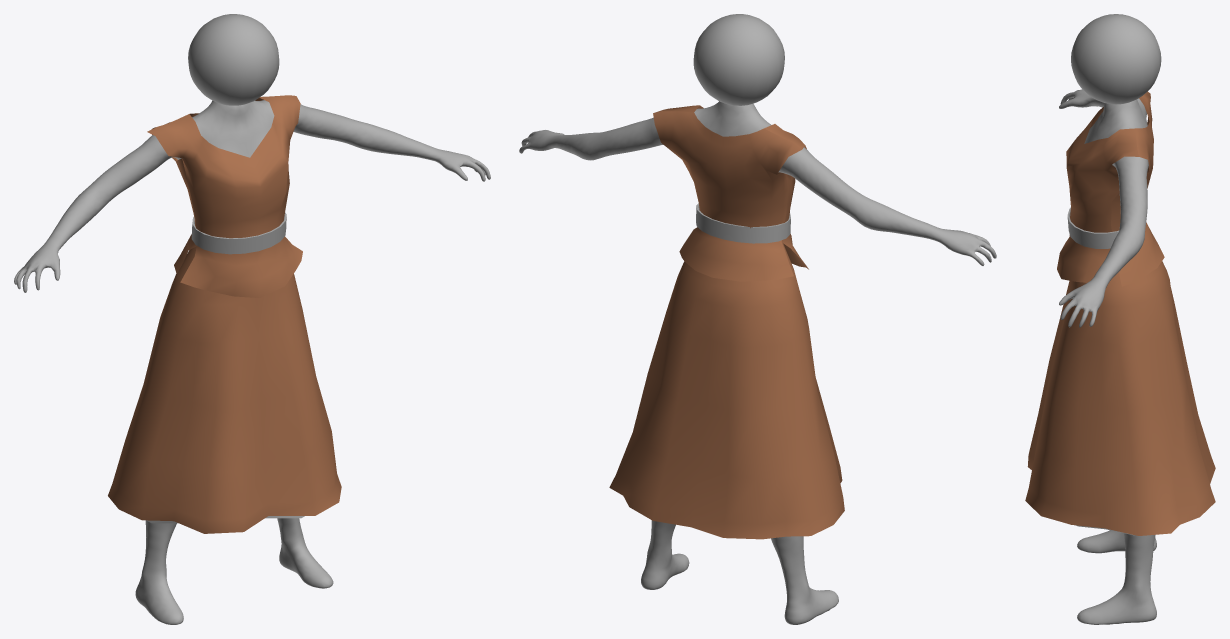
The model's file is placeholder_girl.fbx.
The picture shows the model from 3 angles, left to right: view 1: azimuth 30°, elevation 25°; view 2: azimuth 150°, elevation 25°; view 3: azimuth 270°, elevation 25°; orthographic projection.
Visible parts, largest first — view 1: pCylinder1, Obj_Avatar_Shape1, polySurface5, pCylinder3; view 2: pCylinder1, Obj_Avatar_Shape1, polySurface5, pCylinder3; view 3: pCylinder1, Obj_Avatar_Shape1, polySurface5, pCylinder3.
Part boxes in pixels (bbox=[...]): pCylinder1: bbox=[108, 246, 341, 533]; Obj_Avatar_Shape1: bbox=[14, 14, 490, 624]; polySurface5: bbox=[147, 95, 302, 297]; pCylinder3: bbox=[191, 212, 286, 254]; pCylinder1: bbox=[609, 243, 844, 539]; Obj_Avatar_Shape1: bbox=[519, 14, 996, 624]; polySurface5: bbox=[653, 105, 808, 281]; pCylinder3: bbox=[696, 203, 790, 243]; pCylinder1: bbox=[1025, 261, 1215, 535]; Obj_Avatar_Shape1: bbox=[1059, 14, 1161, 624]; polySurface5: bbox=[1057, 91, 1164, 286]; pCylinder3: bbox=[1067, 207, 1119, 248].
Bounding box in the file's own units: 12.06 × 14.12 × 4.31.
